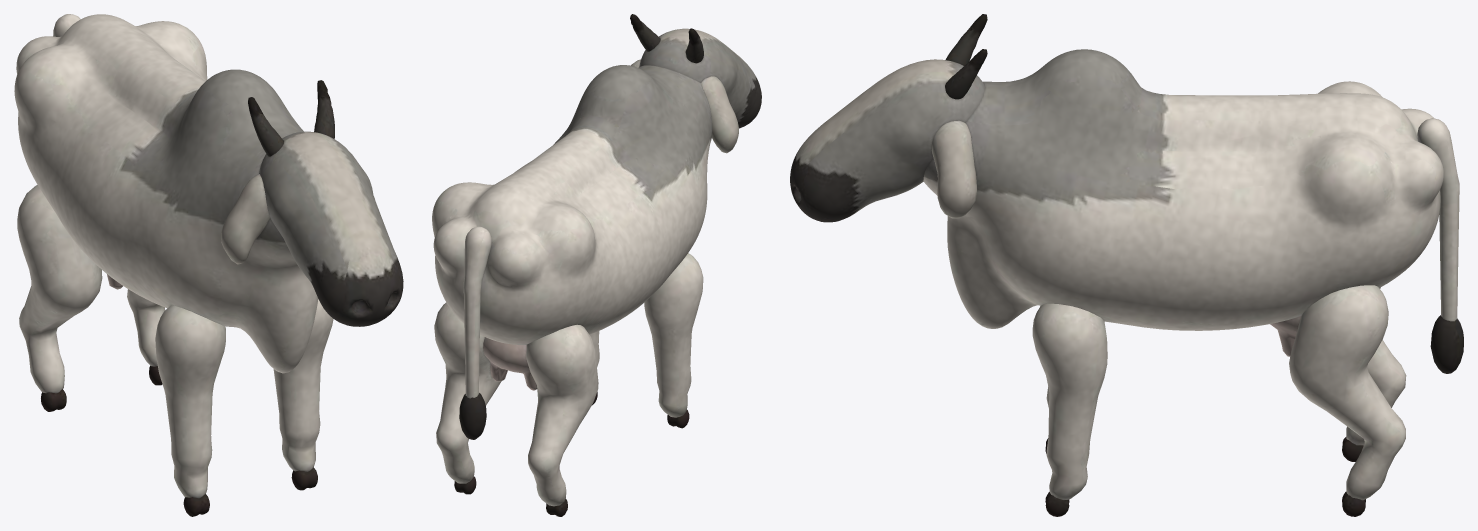
File: animal_zebu.glb
The picture shows the model from 3 angles, left to right: view 1: azimuth 30°, elevation 25°; view 2: azimuth 150°, elevation 25°; view 3: azimuth 270°, elevation 25°; orthographic projection. The views are drawn at different scales.
Parts seen in each view (by area): view 1: animal_zebu, head, leg2, leg0, leg1, leg3; view 2: animal_zebu, leg2, head, leg0, leg3, tail; view 3: animal_zebu, head, leg3, leg1, tail, leg2.
Boxes of the visible parts, box(x1,y1,x2,y2) form: animal_zebu: box(14, 14, 318, 373); head: box(221, 80, 403, 326); leg2: box(17, 185, 102, 411); leg0: box(155, 305, 225, 516); leg1: box(273, 299, 333, 490); leg3: box(127, 289, 165, 385); animal_zebu: box(432, 65, 712, 390); leg2: box(526, 324, 598, 516); head: box(630, 14, 761, 153); leg0: box(644, 253, 703, 428); leg3: box(434, 302, 501, 494); tail: box(459, 226, 491, 439); animal_zebu: box(923, 49, 1443, 356); head: box(790, 14, 987, 222); leg3: box(1289, 285, 1405, 516); leg1: box(1032, 303, 1107, 516); tail: box(1417, 118, 1463, 373); leg2: box(1342, 287, 1406, 461).
Bounding box in the file's own units: 0.2778 × 0.6043 × 0.8126.
1 material, 1 textured.
